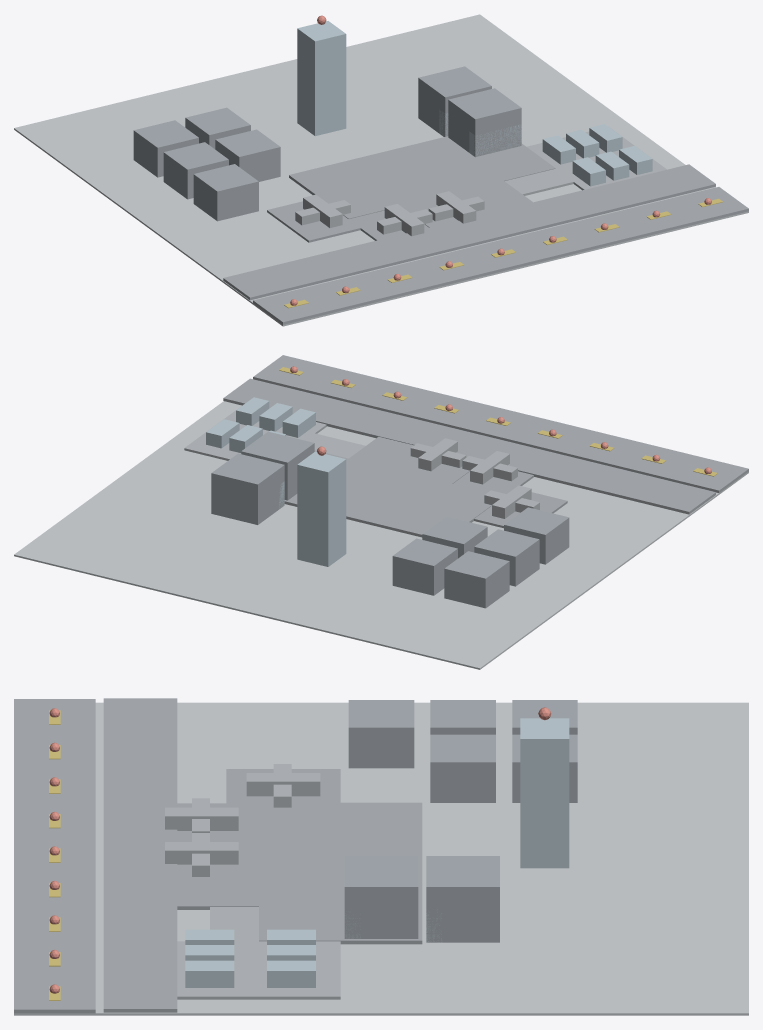
The model's file is stage_19.glb.
3 renders of one model, top to bottom at view 1: azimuth 30°, elevation 25°; view 2: azimuth 150°, elevation 25°; view 3: azimuth 270°, elevation 25°, orthographic. The views are drawn at different scales.
Visible parts, largest first — view 1: geometry_0; view 2: geometry_0; view 3: geometry_0.
Boxes of the visible parts, box(x1,y1,x2,y2) form: geometry_0: box(14, 14, 748, 326); geometry_0: box(14, 355, 748, 669); geometry_0: box(14, 698, 748, 1015).
Bounding box in the file's own units: 9 × 2.06 × 9.
